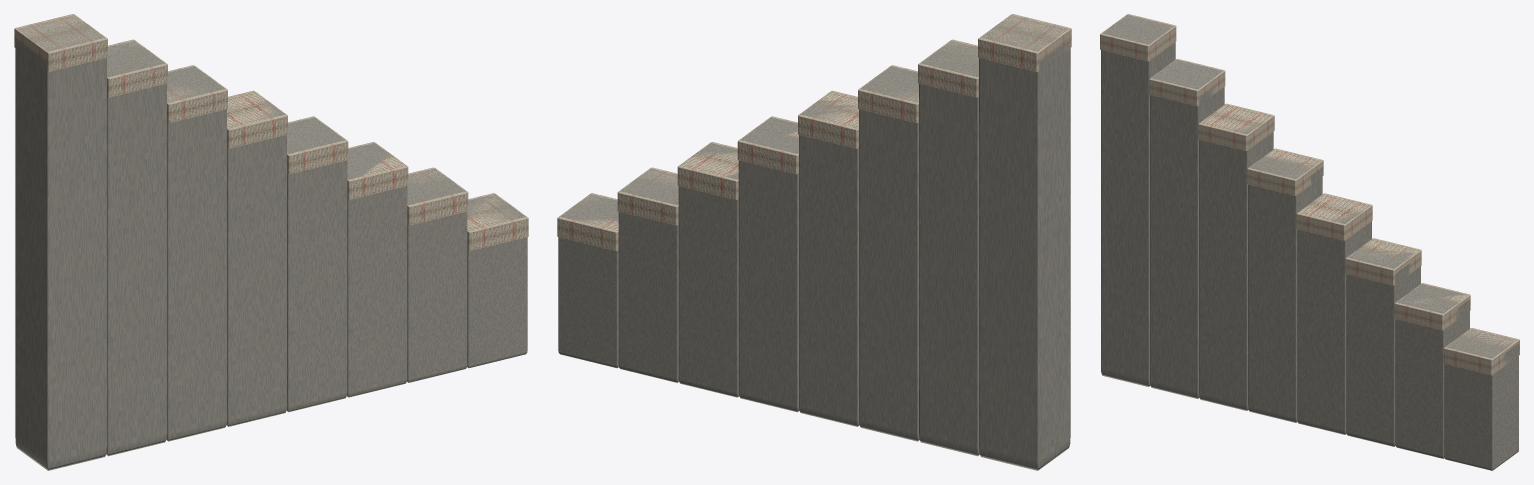
Rendered from breached-wall.glb.
The picture shows the model from 3 angles, left to right: view 1: azimuth 30°, elevation 25°; view 2: azimuth 150°, elevation 25°; view 3: azimuth 330°, elevation 25°; orthographic projection. The views are drawn at different scales.
Visible parts, largest first — view 1: plaster (×8), fracture (×8); view 2: plaster (×8), fracture (×8); view 3: plaster (×8), fracture (×8).
Part boxes in pixels (x1,y1,x2,y2): plaster (×8): (15, 15, 527, 470); fracture (×8): (14, 14, 528, 251); plaster (×8): (558, 16, 1070, 470); fracture (×8): (557, 14, 1071, 251); plaster (×8): (1101, 15, 1518, 470); fracture (×8): (1100, 14, 1519, 375).
Size of the model in its own units: 1.2 by 1 by 0.15.
Materials: 2 (2 with a texture image).
